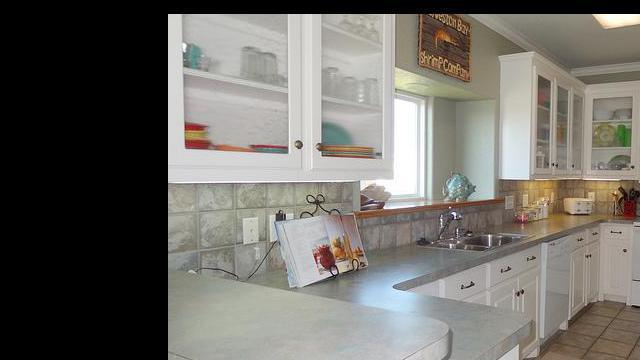Lavaplatos: (424, 209, 539, 269)
